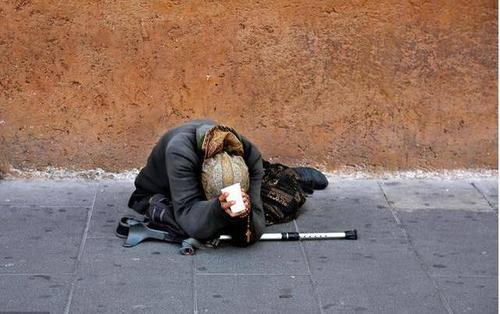fall: (108, 113, 336, 256)
